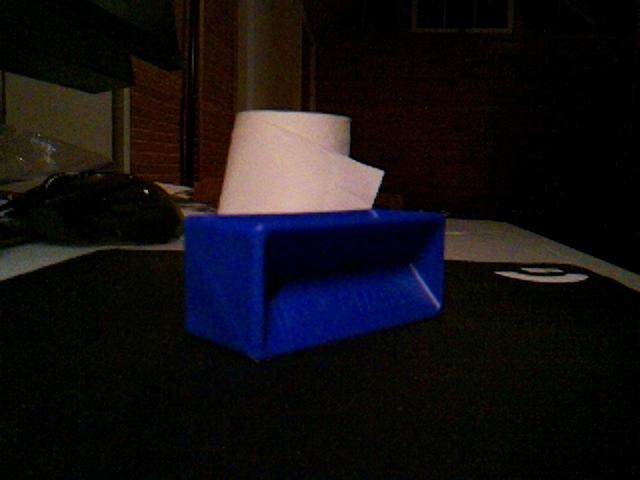blue: (182, 207, 448, 363)
